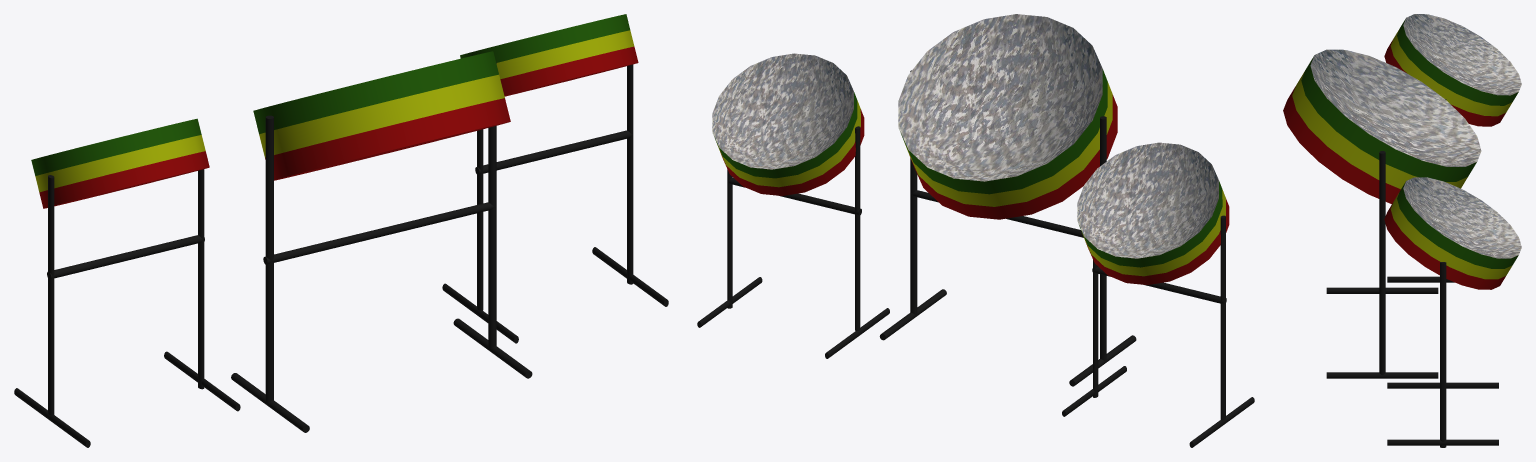
File: steelDrum_rasta(1).fbx
3 views of the same model, side by side, from view 1: azimuth 30°, elevation 25°; view 2: azimuth 150°, elevation 25°; view 3: azimuth 270°, elevation 25° (orthographic). The views are drawn at different scales.
Parts seen in each view (by area): view 1: pCylinder1, pCylinder3, pCylinder2, pCylinder6 (×3), pCylinder5 (×2), pCylinder4 (×2), pCylinder8 (×3), pCylinder7 (×3), pCylinder10, pCylinder9; view 2: pCylinder1, pCylinder2, pCylinder3, pCylinder5 (×2), pCylinder6 (×3), pCylinder4 (×2), pCylinder10, pCylinder9, pCylinder8; view 3: pCylinder1, pCylinder2, pCylinder3, pCylinder4 (×2), pCylinder8 (×3), pCylinder7 (×2).
Part boxes in pixels (x1,y1,x2,y2): pCylinder1: (253, 51, 510, 180); pCylinder3: (31, 118, 209, 208); pCylinder2: (460, 14, 638, 96); pCylinder6 (×3): (47, 130, 632, 279); pCylinder5 (×2): (265, 115, 483, 403); pCylinder4 (×2): (488, 62, 633, 349); pCylinder8 (×3): (164, 247, 668, 411); pCylinder7 (×3): (14, 283, 518, 447); pCylinder10: (48, 175, 54, 415); pCylinder9: (198, 169, 204, 389); pCylinder1: (898, 14, 1117, 219); pCylinder2: (712, 53, 864, 195); pCylinder3: (1077, 142, 1229, 284); pCylinder5 (×2): (855, 116, 1106, 361); pCylinder6 (×3): (727, 177, 1226, 304); pCylinder4 (×2): (727, 70, 917, 315); pCylinder10: (1220, 215, 1225, 420); pCylinder9: (1093, 260, 1098, 397); pCylinder8: (879, 289, 946, 340); pCylinder1: (1283, 49, 1481, 204); pCylinder2: (1384, 177, 1521, 289); pCylinder3: (1384, 14, 1521, 126); pCylinder4 (×2): (1379, 151, 1446, 447); pCylinder8 (×3): (1326, 276, 1498, 445); pCylinder7 (×2): (1326, 287, 1498, 388).
Bounding box in the file's own units: 21.84 × 12.46 × 9.91.
5 materials, 1 textured.
